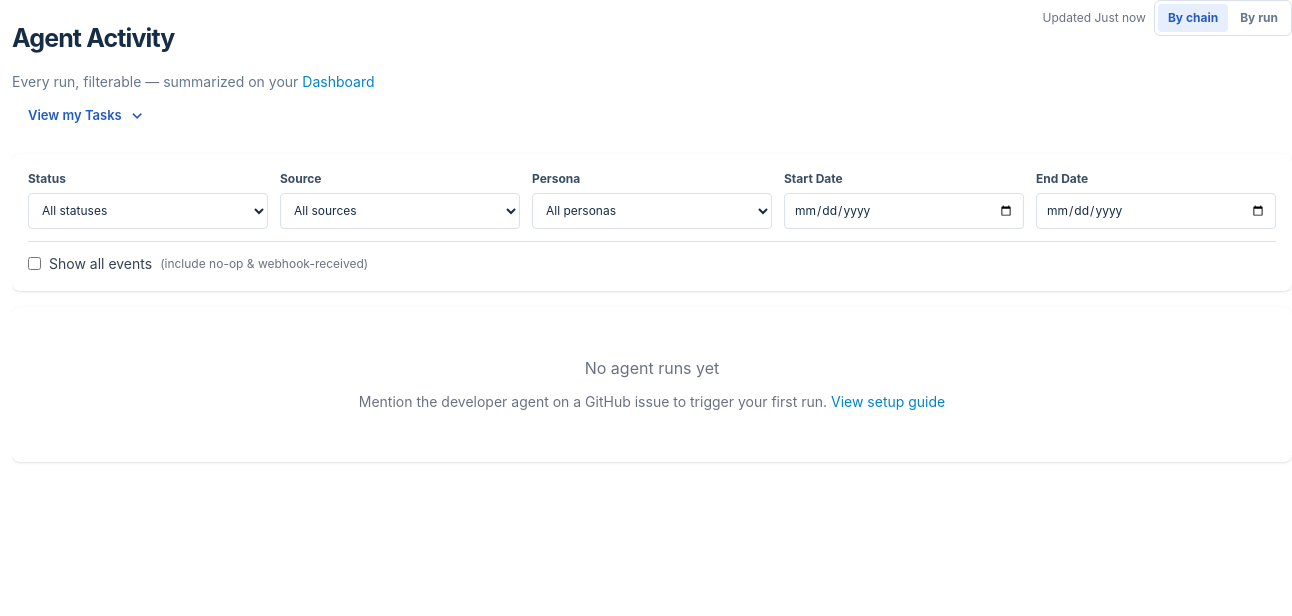
AgentActivity Page › "next" follows last_key; empty page with non-null last_key still shows working "next"
Step 1. Click the tab "By run" → (1259, 18), box [1230, 4, 1288, 32]
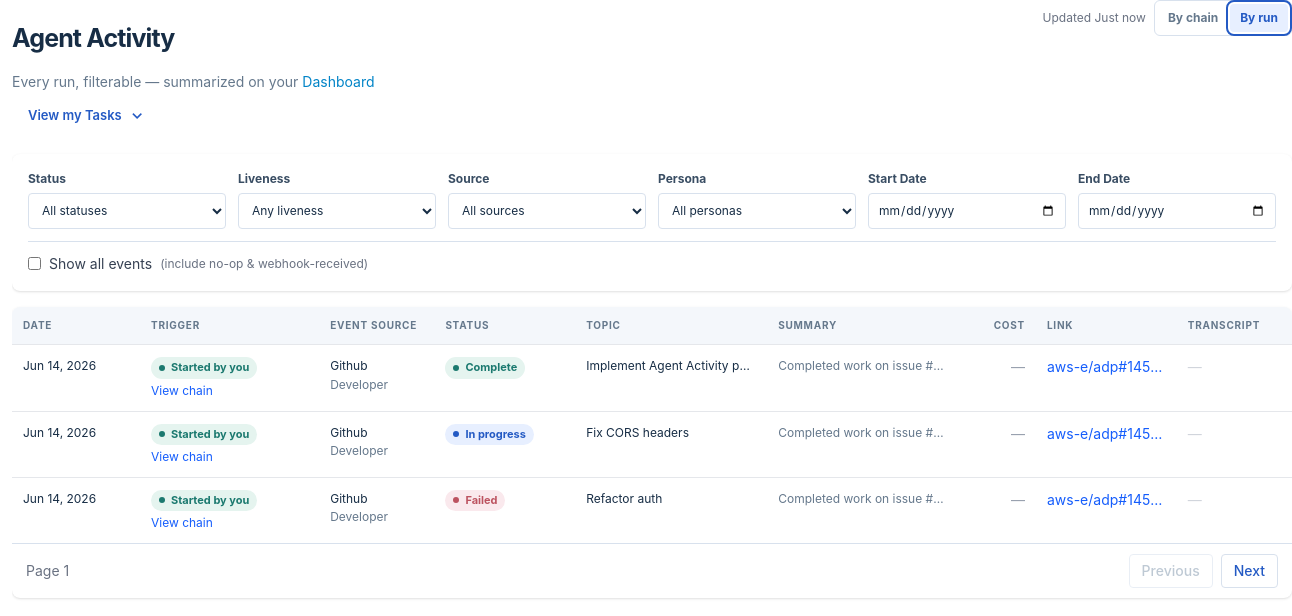
Now the button "Next" is enabled
Step 2. Click the button "Next" → (1249, 571), box [1221, 554, 1278, 588]
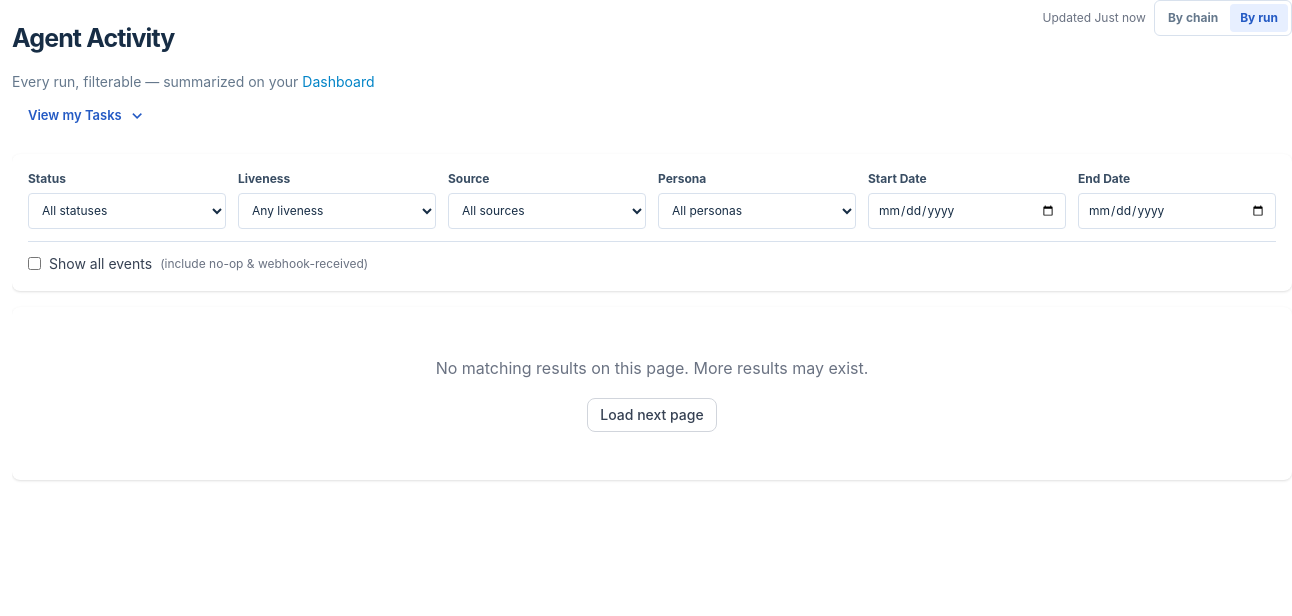
Now the text "No matching results on this page. More results may exist." is shown, box [436, 358, 868, 378]
Now the button "Load next page" is shown, box [587, 398, 717, 432]
